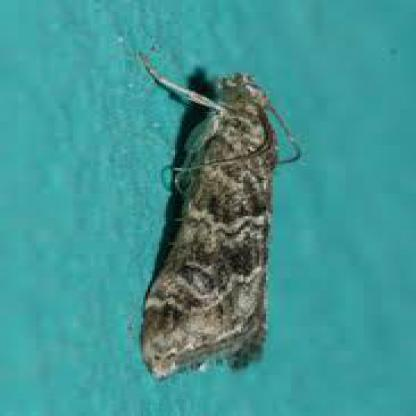Hellula undalis: (132, 45, 317, 379)
